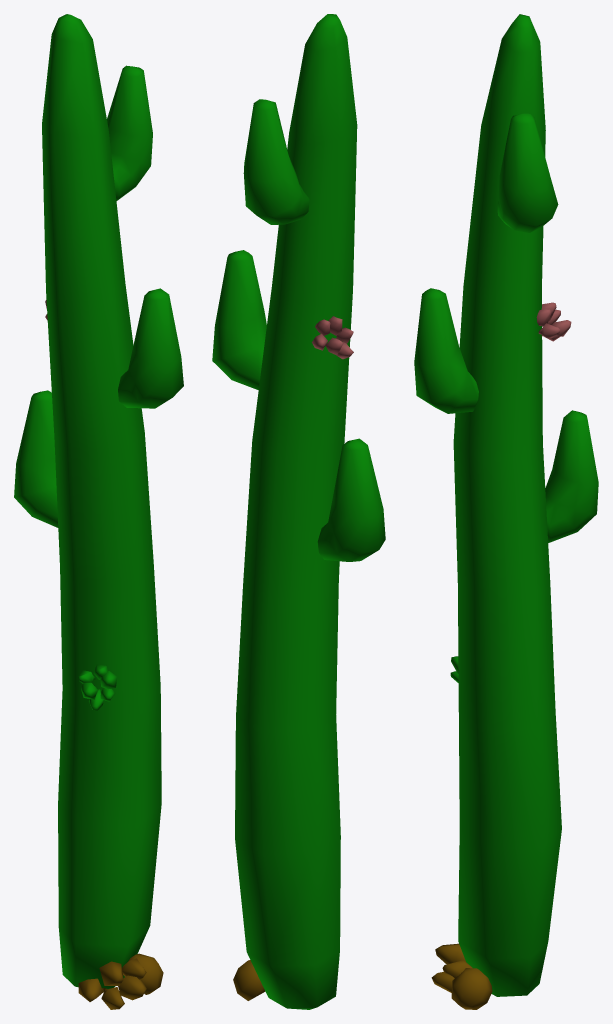
File: Cactus_Tall_02.fbx
The picture shows the model from 3 angles, left to right: view 1: azimuth 30°, elevation 25°; view 2: azimuth 210°, elevation 25°; view 3: azimuth 270°, elevation 25°; orthographic projection. The views are drawn at different scales.
Visible parts, largest first — view 1: Cactus_Tall_02; view 2: Cactus_Tall_02; view 3: Cactus_Tall_02.
Boxes of the visible parts, x1,y1,x2,y2 form: Cactus_Tall_02: (14, 14, 183, 1009); Cactus_Tall_02: (212, 14, 385, 1009); Cactus_Tall_02: (414, 14, 598, 1009).
Bounding box in the file's own units: 0.4482 × 3.87 × 0.6664.
